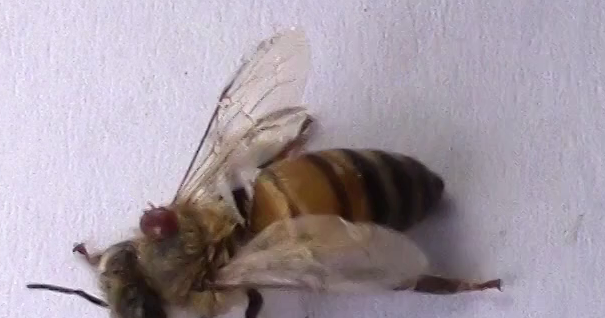Varroa destructor: (137, 205, 184, 246)
